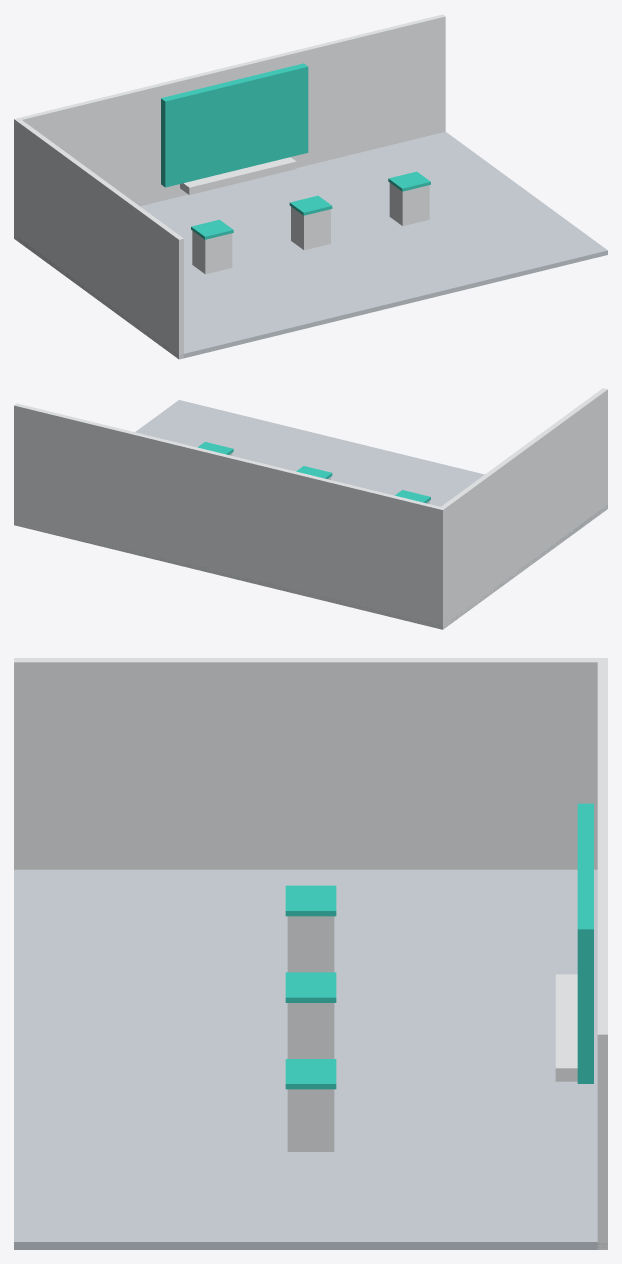
The picture shows the model from 3 angles, top to bottom: view 1: azimuth 30°, elevation 25°; view 2: azimuth 150°, elevation 25°; view 3: azimuth 270°, elevation 25°; orthographic projection. The views are drawn at different scales.
Visible parts, largest first — view 1: Exhibition Booth Concept; view 2: Exhibition Booth Concept; view 3: Exhibition Booth Concept.
Part boxes in pixels (x1,y1,x2,y2): Exhibition Booth Concept: (14,14,607,359); Exhibition Booth Concept: (14,388,607,629); Exhibition Booth Concept: (14,658,607,1249).
Size of the model in its own units: 12 by 3.2 by 8.
